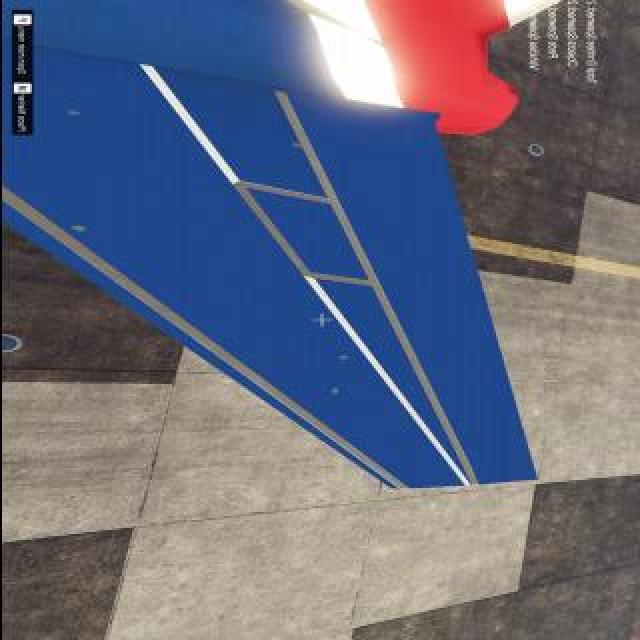crack: (66, 224, 90, 236), (63, 108, 87, 118), (289, 141, 303, 153), (327, 386, 343, 396), (336, 353, 352, 363)
